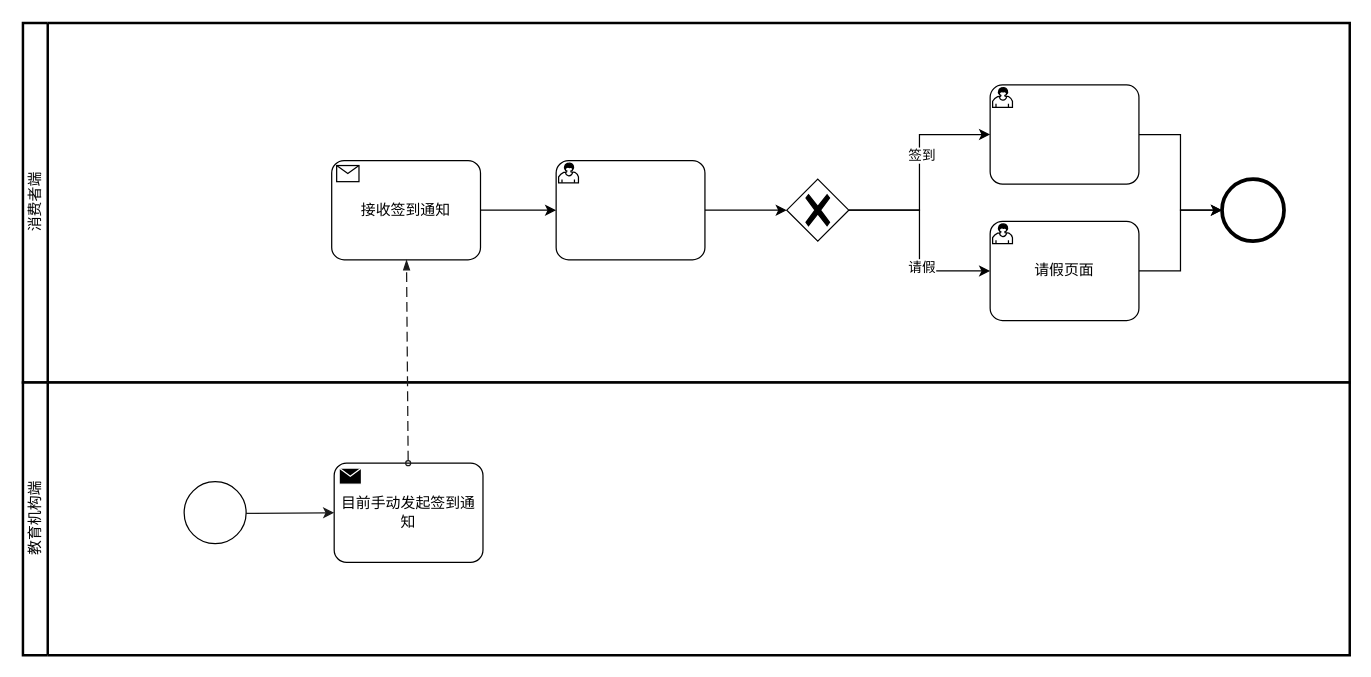
Some shapes in this 1371 by 677 pixel diagram are drawn without their labels. Each missing label, with the centre of its shape:
"点击通知进入已够课程详情页中的签到页面。" goes at [630,209].
"签到页面" goes at [1064,134].
